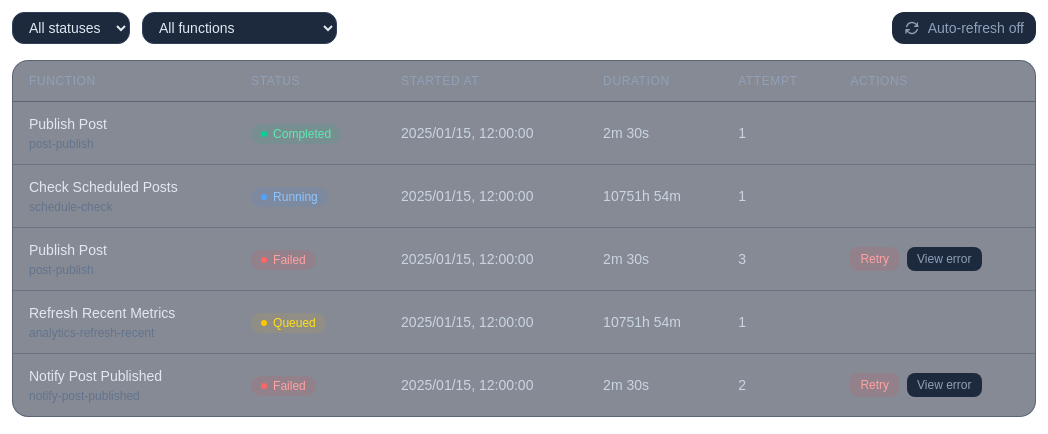
JobMonitorTable › retry button › shows loading state while retrying
Click the button with test id "retry-button".
click(875, 259)  # box [850, 247, 899, 271]
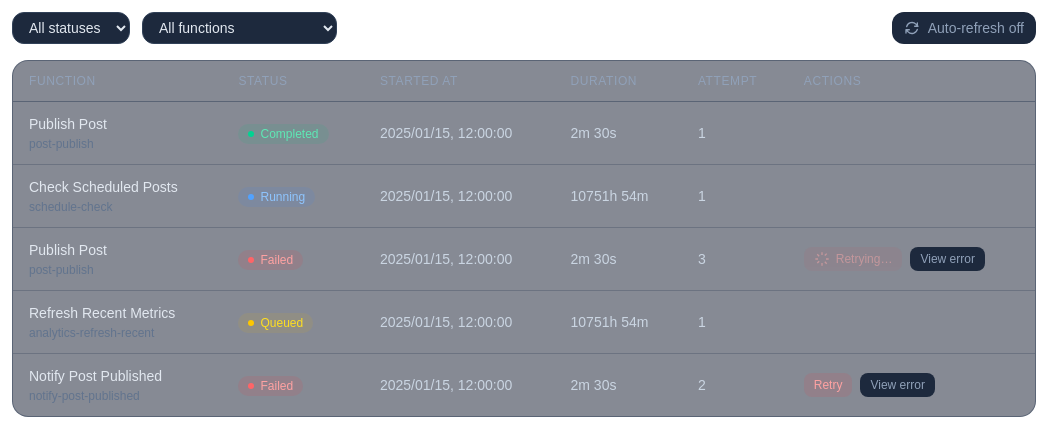
Result: the message named "loading" is shown at [836, 251, 892, 267]
